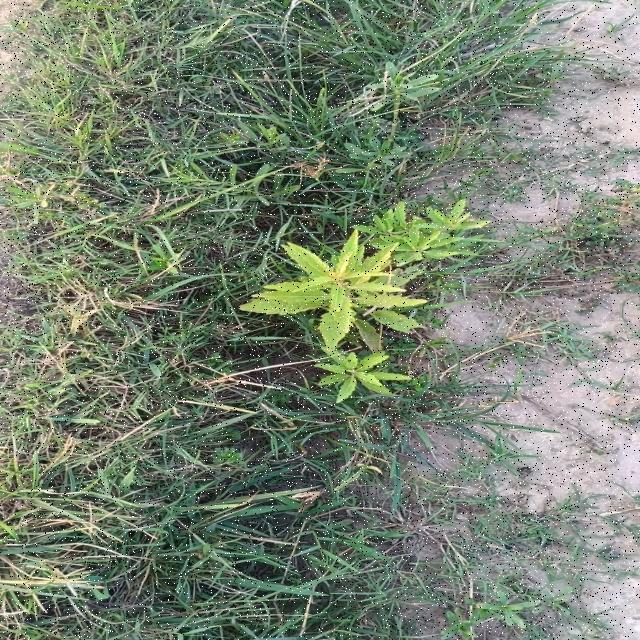weed: (239, 200, 487, 402)
